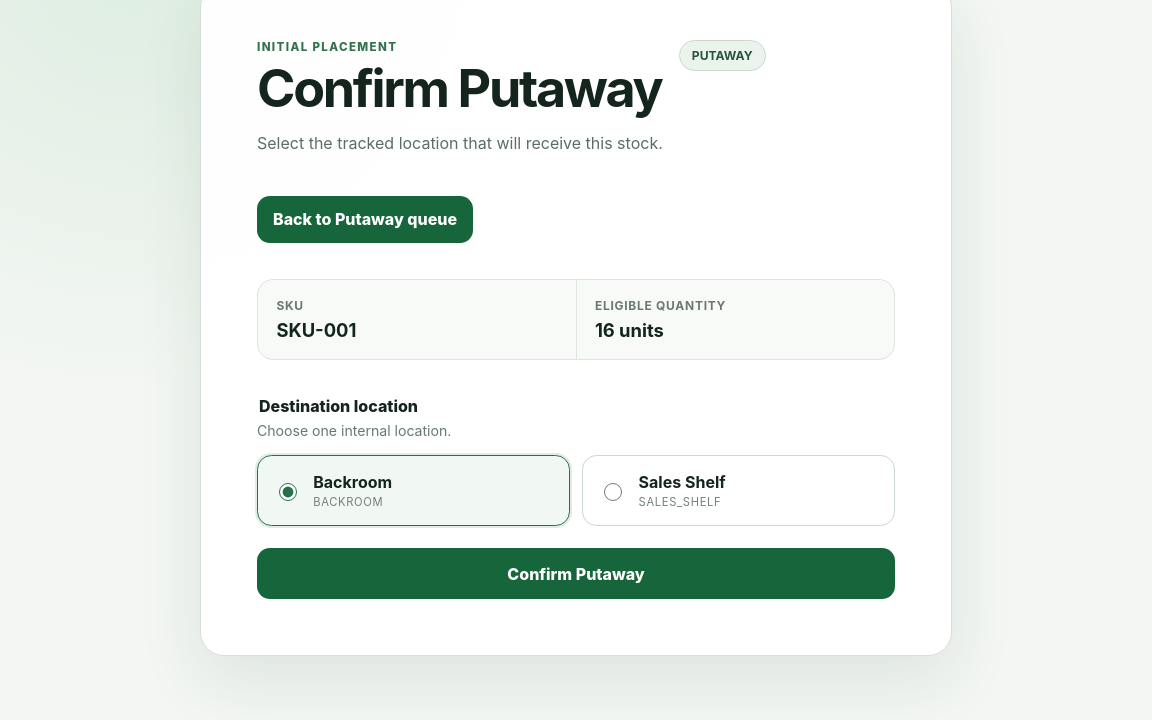
Scenario: US-PUT-001 Putaway › displays a backend validation error
(page scrolled)
Click the button "Confirm Putaway" at {"x": 576, "y": 574}, box [257,548,895,599]
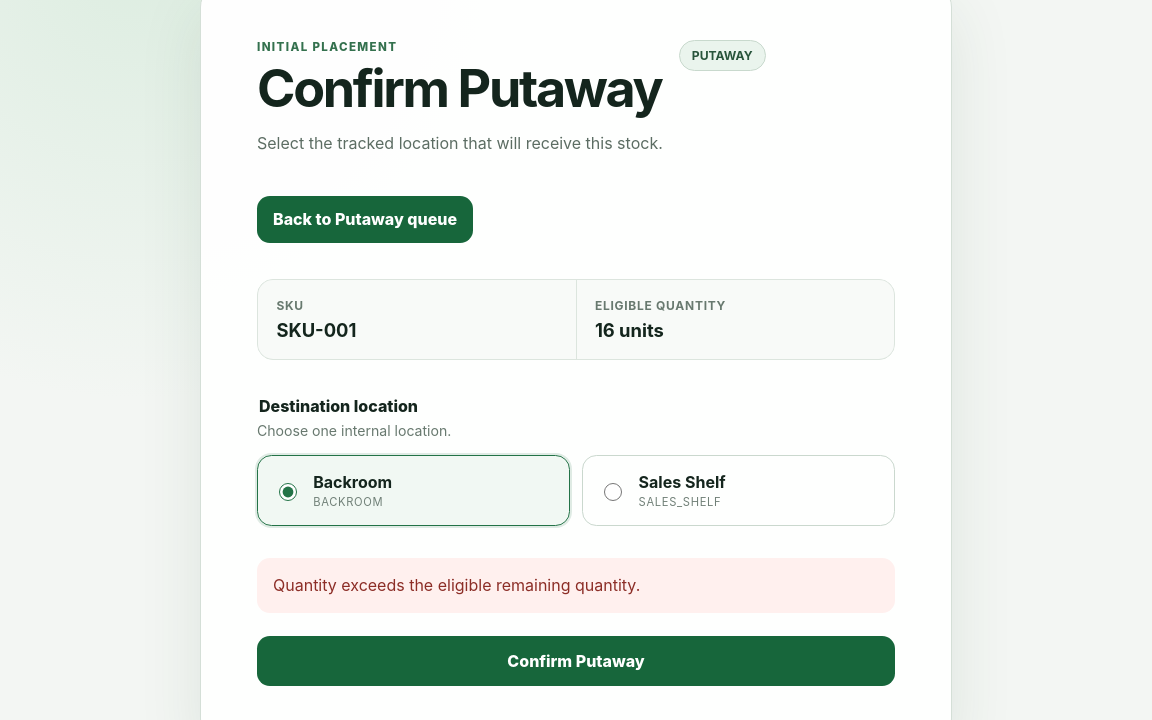
Expected: the message reads "Quantity exceeds the eligible remaining quantity.", [273,575,640,595]
